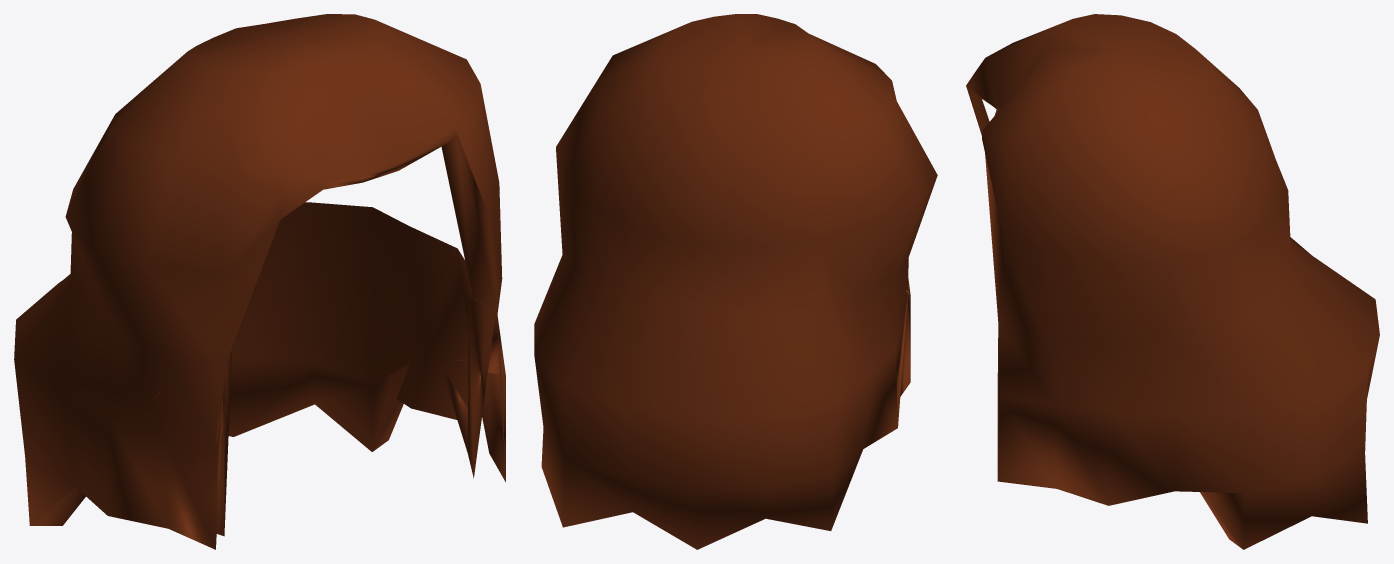
File: hp_hair_long.glb
The picture shows the model from 3 angles, left to right: view 1: azimuth 30°, elevation 25°; view 2: azimuth 150°, elevation 25°; view 3: azimuth 270°, elevation 25°; orthographic projection. The views are drawn at different scales.
Visible parts, largest first — view 1: HP_Hair_Long; view 2: HP_Hair_Long; view 3: HP_Hair_Long.
Boxes of the visible parts, x1=… form: HP_Hair_Long: x1=14, y1=14, x2=505, y2=549; HP_Hair_Long: x1=534, y1=14, x2=937, y2=549; HP_Hair_Long: x1=966, y1=14, x2=1379, y2=549.
Bounding box in the file's own units: 0.4902 × 0.5828 × 0.488.
Materials: 1 (1 with a texture image).
